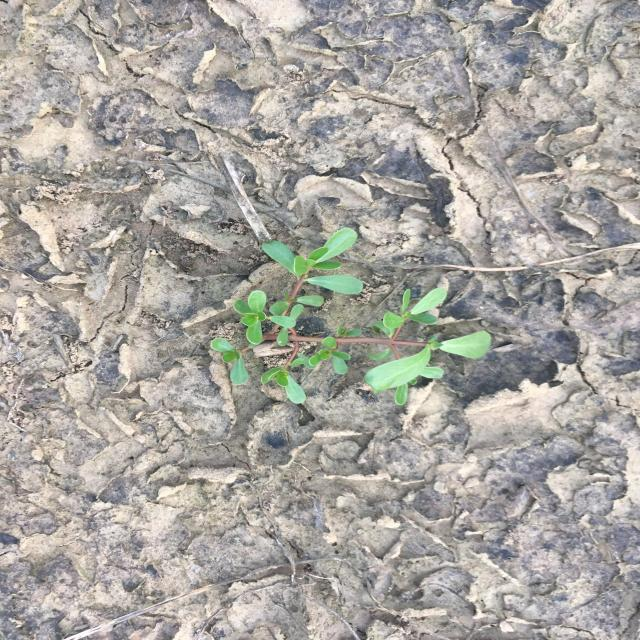Purslane: (209, 227, 493, 407)
